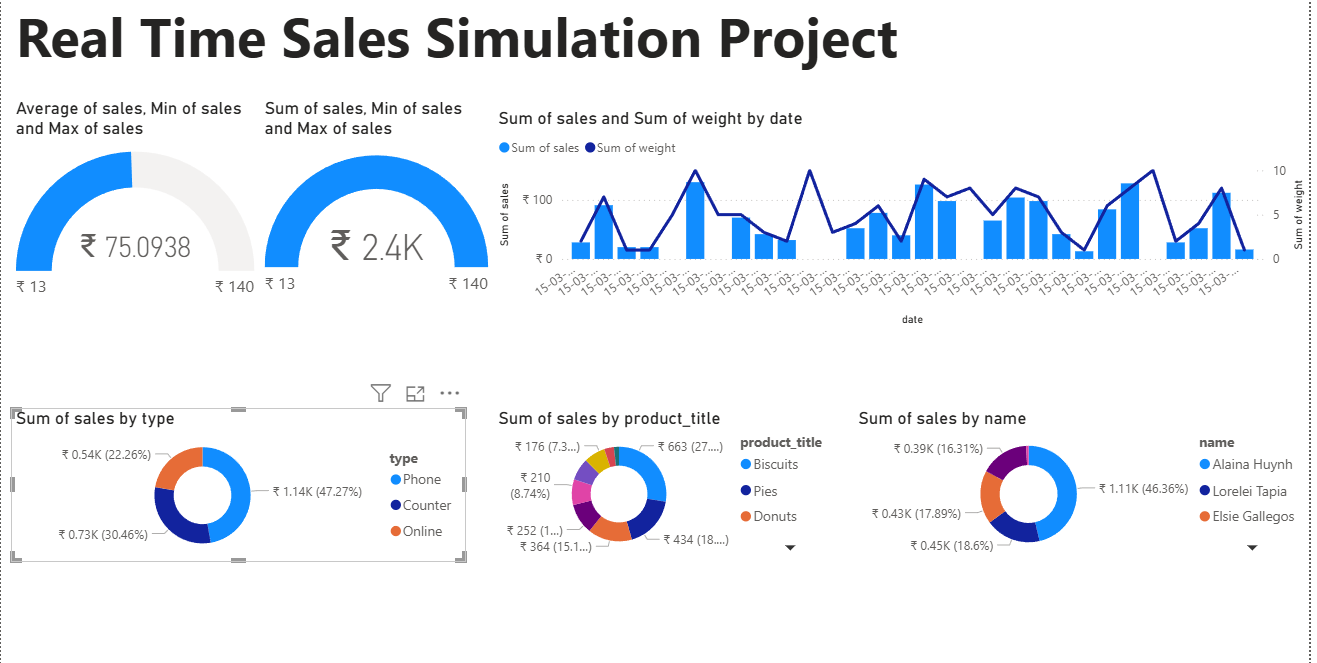

This screenshot's page, from the dashboard's own definition file:
{"tool":"powerbi","page":{"name":"Page 1","canvas":[1280,720],"ordinal":0},"visuals":[{"type":"textbox","box":[9.6,0,890.6,81],"z":0},{"type":"gauge","fields":{"Y":["Avg(Orders.sales)"],"MinValue":["Min(Orders.sales)"],"MaxValue":["Max(Orders.sales)"]},"box":[9.8,102.7,243.3,215.2],"z":1000},{"type":"donutChart","fields":{"Y":["Sum(Orders.sales)"],"Category":["Order_type.type"]},"box":[9.8,406,445.1,150.4],"z":2000},{"type":"donutChart","fields":{"Y":["Sum(Orders.sales)"],"Category":["Product.product_title"]},"box":[481.6,406.2,343.1,149.6],"z":3000},{"type":"donutChart","fields":{"Y":["Sum(Orders.sales)"],"Category":["Sales_Person.name"]},"box":[834.3,406.2,446,149.6],"z":4000},{"type":"lineStackedColumnComboChart","fields":{"Category":["Orders.date"],"Y":["Sum(Orders.sales)"],"Y2":["Sum(Orders.weight)"]},"box":[481.8,112.5,798.5,217.7],"z":5000},{"type":"gauge","fields":{"Y":["Sum(Orders.sales)"],"MinValue":["Min(Orders.sales)"],"MaxValue":["Max(Orders.sales)"]},"box":[253.1,102.7,228.7,215.2],"z":5001}]}

Visuals, with their boxes on the page's 1280x720 design canvas (x1, y1, x2, y2). These are canvas units, not pixel positions in the 1317x663 screenshot, which may show the page scaled, cropped or inside an application window:
textbox: l=10, t=0, r=900, b=81
gauge - Avg(Orders.sales) x Min(Orders.sales): l=10, t=103, r=253, b=318
donutChart - Sum(Orders.sales) x Order_type.type: l=10, t=406, r=455, b=556
donutChart - Sum(Orders.sales) x Product.product_title: l=482, t=406, r=825, b=556
donutChart - Sum(Orders.sales) x Sales_Person.name: l=834, t=406, r=1280, b=556
lineStackedColumnComboChart - Orders.date x Sum(Orders.sales): l=482, t=112, r=1280, b=330
gauge - Sum(Orders.sales) x Min(Orders.sales): l=253, t=103, r=482, b=318
